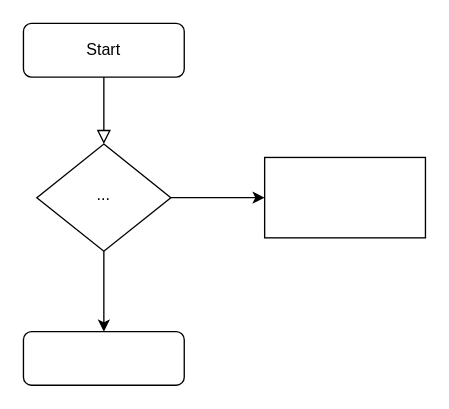
Image size: 449x409. Some labels were removed from this diagram. The centre of each missing label's shape, as x and y in pixels:
"Alert" belongs at (x=344, y=197).
"Finish" belongs at (x=103, y=357).
